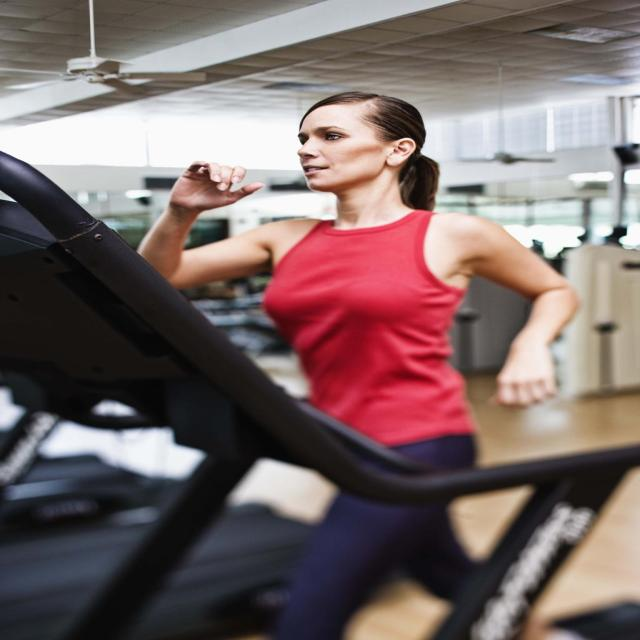Face: (275, 107, 391, 189)
